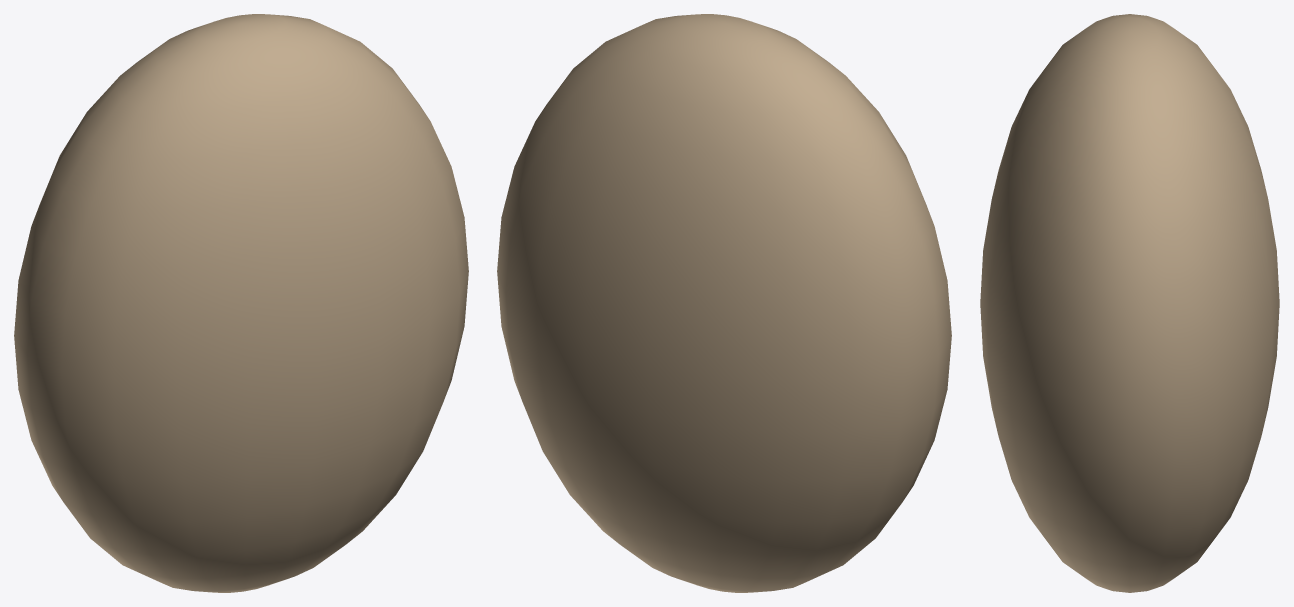
File: nephron.glb
3 views of the same model, side by side, from view 1: azimuth 30°, elevation 25°; view 2: azimuth 150°, elevation 25°; view 3: azimuth 270°, elevation 25° (orthographic). The views are drawn at different scales.
Visible parts, largest first — view 1: micro-nephron; view 2: micro-nephron; view 3: micro-nephron.
Part boxes in pixels (x1,y1,x2,y2): micro-nephron: [14, 14, 468, 592]; micro-nephron: [497, 14, 951, 592]; micro-nephron: [980, 14, 1279, 592].
Bounding box in the file's own units: 0.8 × 1 × 0.5.
